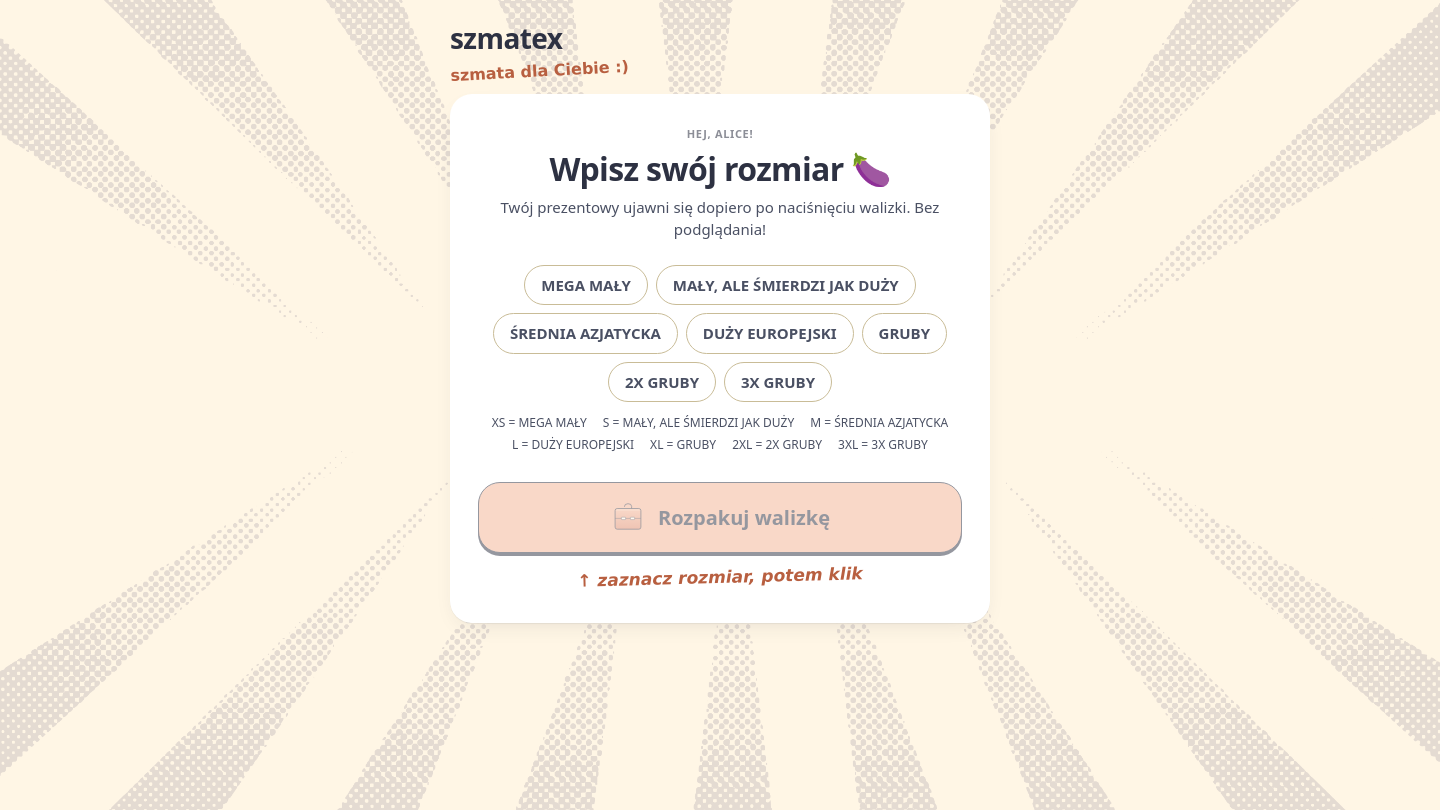
Test case: RevealView › displays recipient name after size submission
The width and height of the screenshot is (1440, 810).
Click the button "GRUBY": (904, 333) [862,313,947,354]
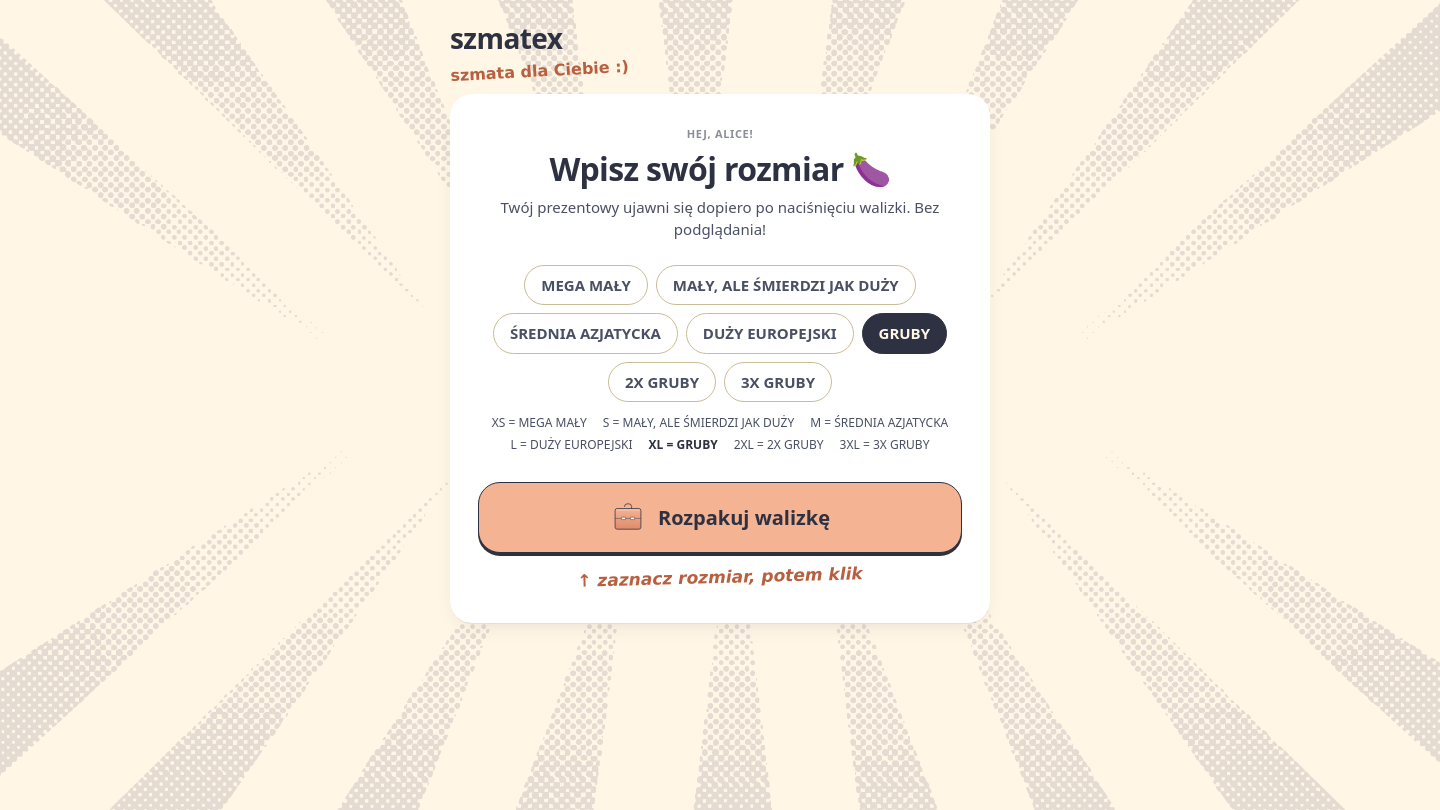
Click the button "Rozpakuj walizkę": (720, 518) [478,482,962,553]
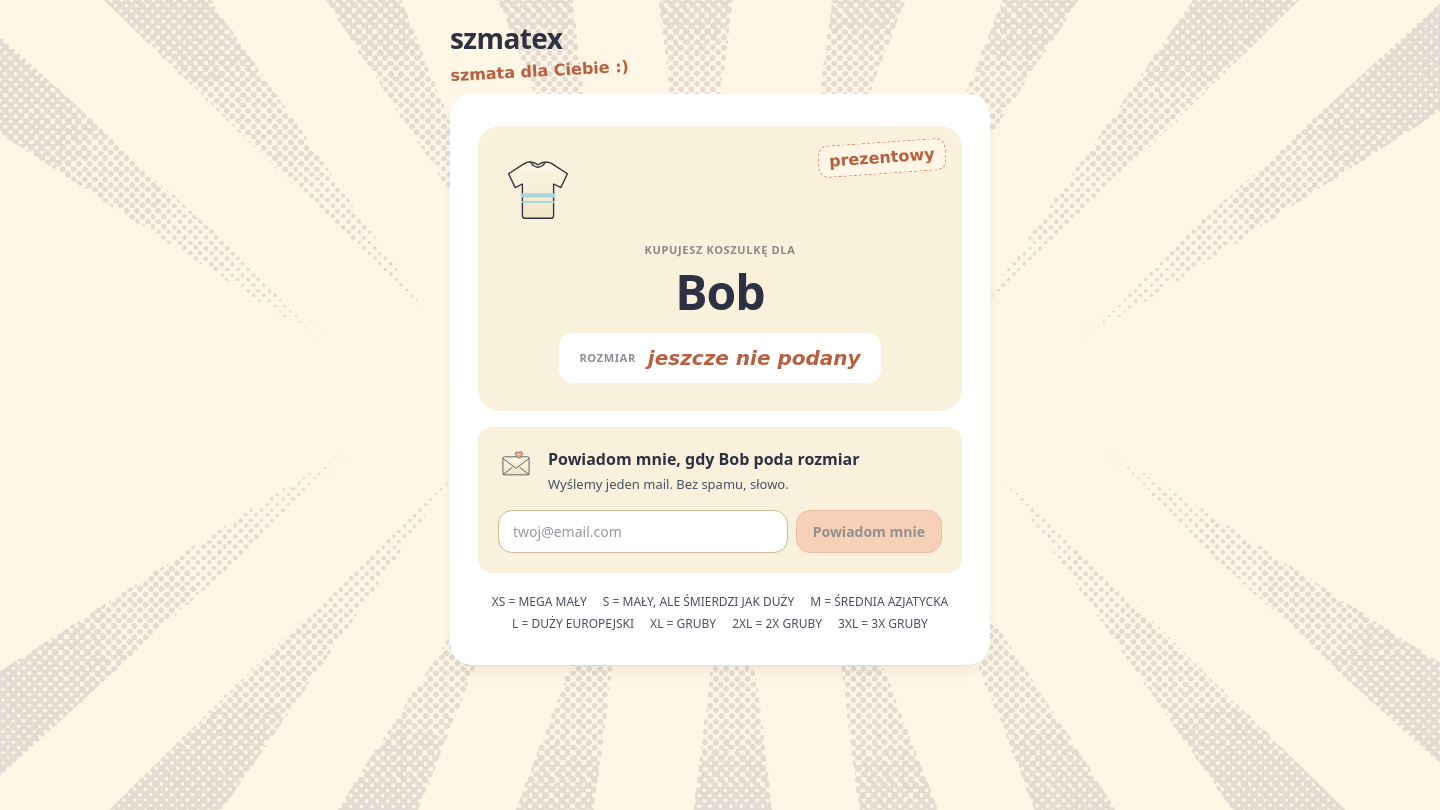
Now the text "Bob" is shown, box [675,258,765,324]
